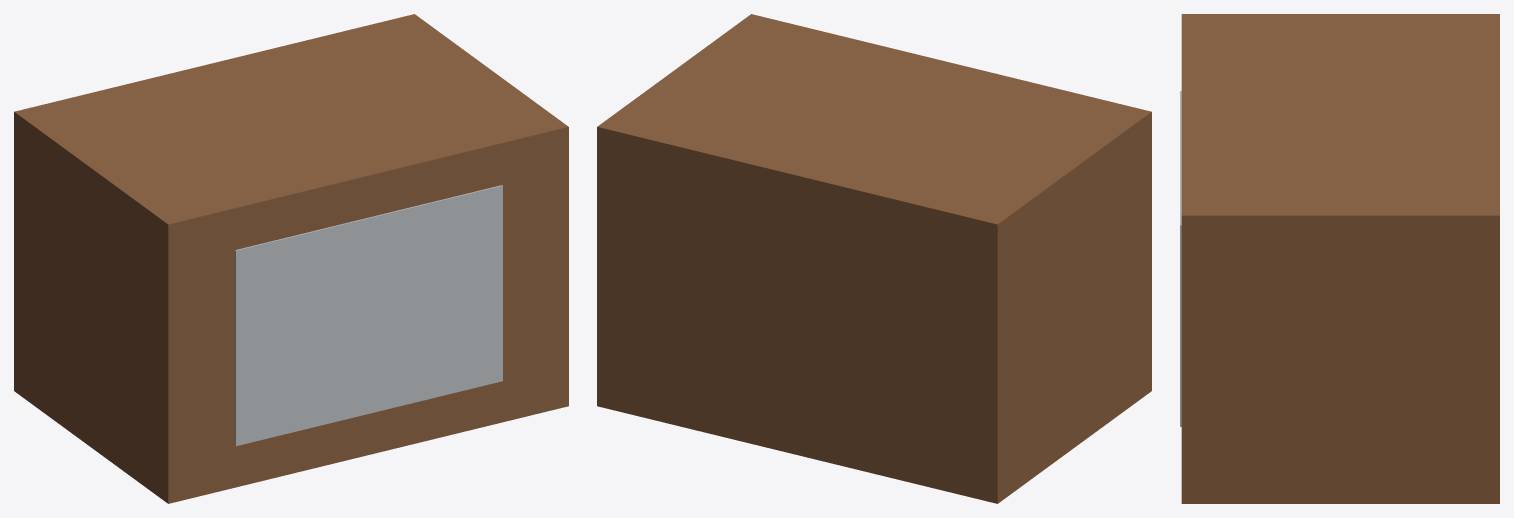
The model's file is sm_product_rabbit_hutch.glb.
The picture shows the model from 3 angles, left to right: view 1: azimuth 30°, elevation 25°; view 2: azimuth 150°, elevation 25°; view 3: azimuth 270°, elevation 25°; orthographic projection. The views are drawn at different scales.
Parts seen in each view (by area): view 1: rabbit_hutch_0, rabbit_hutch_1; view 2: rabbit_hutch_0; view 3: rabbit_hutch_0, rabbit_hutch_1.
Boxes of the visible parts, x1=… form: rabbit_hutch_0: x1=14, y1=14, x2=568, y2=503; rabbit_hutch_1: x1=235, y1=185, x2=502, y2=446; rabbit_hutch_0: x1=597, y1=14, x2=1151, y2=503; rabbit_hutch_0: x1=1181, y1=14, x2=1499, y2=503; rabbit_hutch_1: x1=1180, y1=91, x2=1181, y2=426.
Size of what is drawn, in the model's own units: 0.6 by 0.4 by 0.402.
